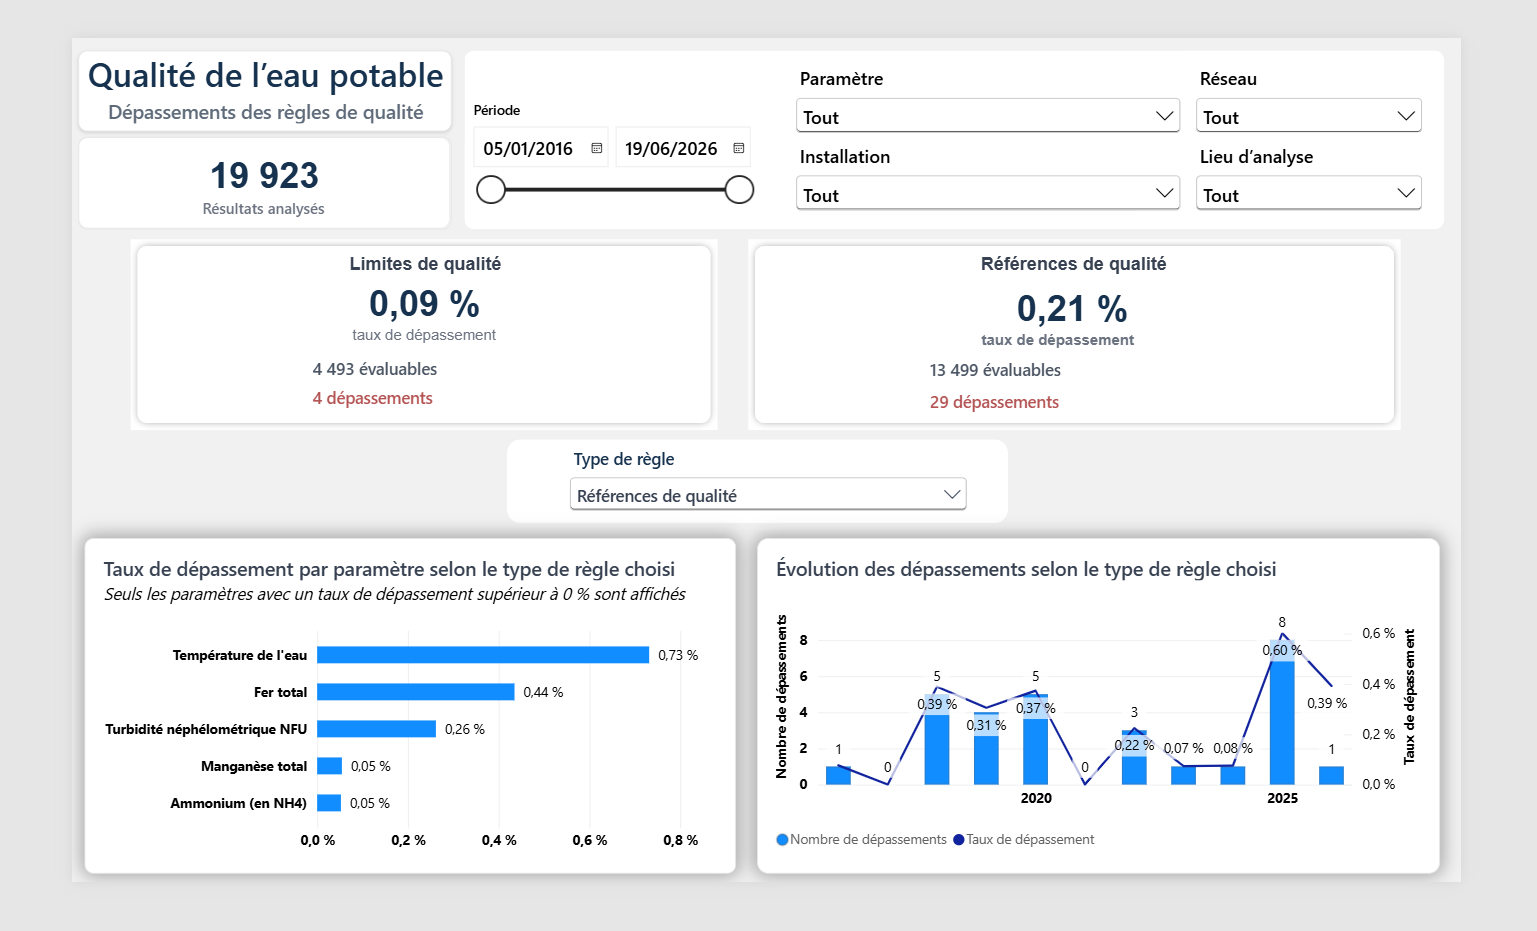

What the dashboard file says about the page in this screenshot:
{"tool":"powerbi","page":{"name":"Dépassements des règles de qualité","canvas":[1235,750],"ordinal":1},"visuals":[{"type":"shape","box":[386.1,357.1,445.3,74.7],"z":0},{"type":"shape","box":[349,11.6,870.8,158.9],"z":1000},{"type":"shape","box":[52.2,178.6,521.3,169.3],"z":2000},{"type":"slicer","fields":{"Values":["dim_date.date"]},"box":[348.7,55.1,260.3,101.3],"z":3000},{"type":"slicer","fields":{"Values":["dim_installation.nom_installation_amont"]},"box":[638.5,93.6,351.3,67.9],"z":4000},{"type":"slicer","fields":{"Values":["dim_reseau.code_reseau"]},"box":[994.9,24.4,210.3,59],"z":5000},{"type":"cardVisual","title":"Nombre total de prélèvements","fields":{"Data":["fact_resultats.Affichage_nombre_total_résultats"]},"box":[5.8,88.1,331.6,82.3],"z":6000},{"type":"cardVisual","fields":{"Data":["fact_resultats.Taux_dépassement_Limites_qualité"]},"box":[192.9,202.4,241.9,60.8],"z":7000},{"type":"cardVisual","fields":{"Data":["fact_resultats.Affichage_Nb_évaluables_Limites_qualité"]},"box":[197.6,272.6,208.1,43.2],"z":8000},{"type":"cardVisual","fields":{"Data":["fact_resultats.Affichage_Nb_dépassements_Limites_qualité"]},"box":[197.6,306,208,28],"z":9000},{"type":"textbox","title":"Limites de qualité","box":[208.7,192.5,210.8,25.7],"z":10000},{"type":"textbox","title":"taux de dépassement","box":[226.2,257.1,173,27],"z":11000},{"type":"shape","box":[600.7,178.6,580,169.3],"z":12000},{"type":"cardVisual","fields":{"Data":["fact_resultats.Taux_dépassement_Références_qualité"]},"box":[772.3,205.2,235.1,56.8],"z":13000},{"type":"cardVisual","fields":{"Data":["fact_resultats.Affichage_Nb_évaluables_Références_qualité"]},"box":[746.8,276,235.1,37.8],"z":14000},{"type":"textbox","title":"Références de qualité","box":[759.5,192.5,260.8,28.4],"z":15000},{"type":"textbox","title":"taux de dépassement","box":[790.8,260.9,170.3,18.9],"z":16000},{"type":"slicer","fields":{"Values":["Sélecteur_Type_Règle.Type_Règle"]},"box":[438.3,362.9,362.7,68],"z":17000},{"type":"textbox","title":"Qualité de l’eau potable","box":[5.8,11.6,331.6,71.9],"z":18000},{"type":"textbox","title":"Résultats analysés","box":[71.9,142.6,195.9,28.4],"z":19000},{"type":"slicer","fields":{"Values":["dim_parametre.libelle_parametre"]},"box":[638.5,24.4,351.3,69.2],"z":20000},{"type":"slicer","fields":{"Values":["fact_resultats.code_lieu_analyse"]},"box":[994.9,93.6,210.3,69.2],"z":21000},{"type":"cardVisual","fields":{"Data":["fact_resultats.Affichage_Nb_dépassements_Références_qualité"]},"box":[746.8,306.1,208.1,33.8],"z":22000},{"type":"clusteredBarChart","title":"Taux de dépassement par paramètre selon le type de règle choisi","fields":{"Category":["dim_parametre.libelle_parametre"],"Y":["fact_resultats.Taux_dépassement_Type_Règle_sélectionné"]},"box":[11.1,444.4,579,298.8],"z":23000},{"type":"lineClusteredColumnComboChart","title":"Évolution des dépassements selon le type de règle choisi","fields":{"Category":["dim_date.annee","dim_date.nom_mois"],"Y":["fact_resultats.Nb_dépassements_Type_Règle_sélectionné"],"Y2":["fact_resultats.Taux_dépassement_Type_Règle_sélectionné"]},"box":[608.9,444.4,607.4,298.8],"z":24000}]}

Visuals, with their boxes in screenshot pixels (x1, y1, x2, y2), scaled from the page's 1235x750 canvas onto the 1537x931 screenshot:
shape: locate(481, 443, 1035, 536)
shape: locate(434, 14, 1518, 212)
shape: locate(65, 222, 714, 432)
slicer - dim_date.date: locate(434, 68, 758, 194)
slicer - dim_installation.nom_installation_amont: locate(795, 116, 1232, 200)
slicer - dim_reseau.code_reseau: locate(1238, 30, 1500, 104)
"Nombre total de prélèvements" cardVisual: locate(7, 109, 420, 212)
cardVisual - fact_resultats.Taux_dépassement_Limites_qualité: locate(240, 251, 541, 327)
cardVisual - fact_resultats.Affichage_Nb_évaluables_Limites_qualité: locate(246, 338, 505, 392)
cardVisual - fact_resultats.Affichage_Nb_dépassements_Limites_qualité: locate(246, 380, 505, 415)
"Limites de qualité" textbox: locate(260, 239, 522, 271)
"taux de dépassement" textbox: locate(282, 319, 497, 353)
shape: locate(748, 222, 1469, 432)
cardVisual - fact_resultats.Taux_dépassement_Références_qualité: locate(961, 255, 1254, 325)
cardVisual - fact_resultats.Affichage_Nb_évaluables_Références_qualité: locate(929, 343, 1222, 390)
"Références de qualité" textbox: locate(945, 239, 1270, 274)
"taux de dépassement" textbox: locate(984, 324, 1196, 347)
slicer - Sélecteur_Type_Règle.Type_Règle: locate(545, 450, 997, 535)
"Qualité de l’eau potable" textbox: locate(7, 14, 420, 104)
"Résultats analysés" textbox: locate(89, 177, 333, 212)
slicer - dim_parametre.libelle_parametre: locate(795, 30, 1232, 116)
slicer - fact_resultats.code_lieu_analyse: locate(1238, 116, 1500, 202)
cardVisual - fact_resultats.Affichage_Nb_dépassements_Références_qualité: locate(929, 380, 1188, 422)
"Taux de dépassement par paramètre selon le type de règle choisi" clusteredBarChart: locate(14, 552, 734, 923)
"Évolution des dépassements selon le type de règle choisi" lineClusteredColumnComboChart: locate(758, 552, 1514, 923)
